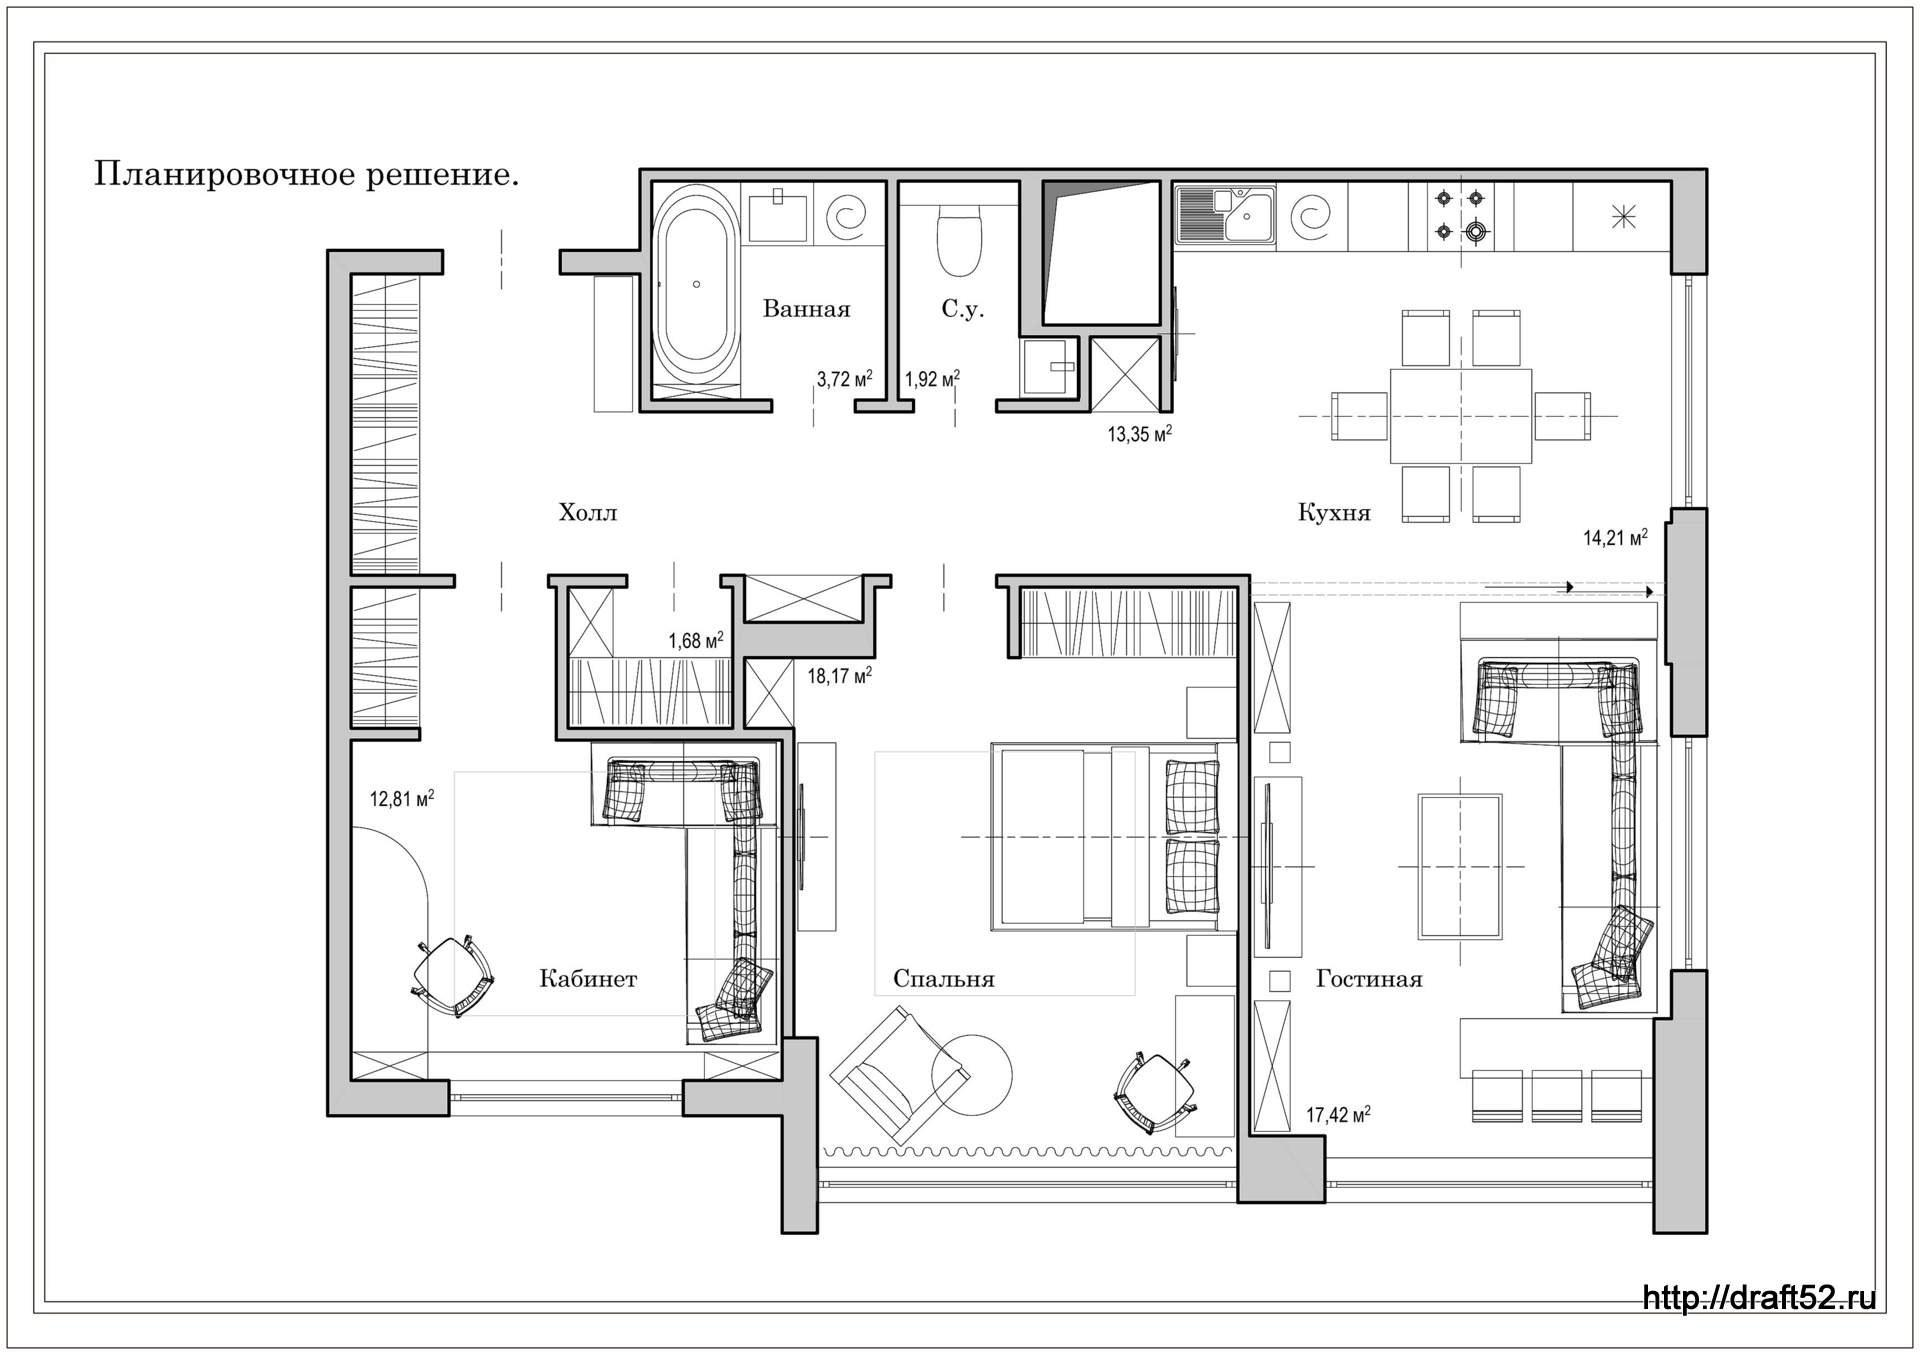bathroom: (652, 180, 888, 400)
bedroom: (744, 584, 1244, 1182)
hallway: (348, 274, 1172, 726)
home_office: (352, 740, 780, 1080)
kitchen: (1174, 182, 1672, 586)
living_room: (1246, 596, 1672, 1182)
toilet: (900, 180, 1084, 400)
utility_room: (1090, 334, 1162, 412)
walk_in_closet: (564, 586, 732, 730)
